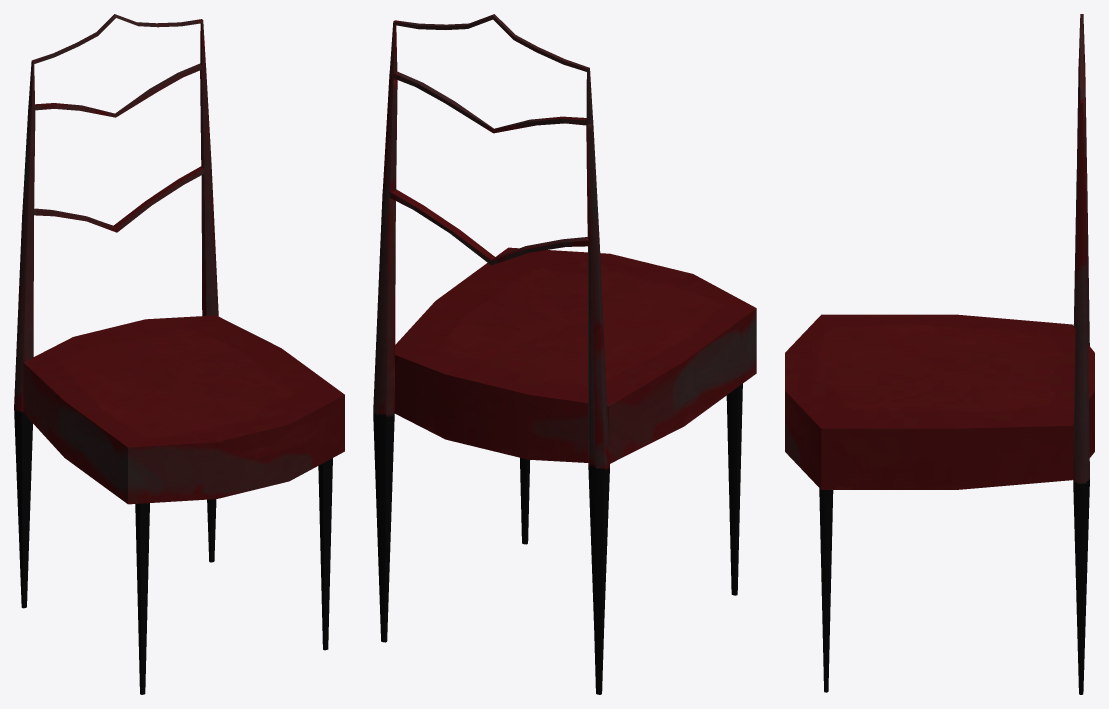
The model's file is Livingroom_chair.fbx.
The picture shows the model from 3 angles, left to right: view 1: azimuth 30°, elevation 25°; view 2: azimuth 150°, elevation 25°; view 3: azimuth 270°, elevation 25°; orthographic projection. The views are drawn at different scales.
Visible parts, largest first — view 1: pCube31; view 2: pCube31; view 3: pCube31.
Part boxes in pixels (bbox=[...]): pCube31: bbox=[14, 14, 344, 694]; pCube31: bbox=[373, 14, 756, 694]; pCube31: bbox=[785, 14, 1094, 694].
Size of the model in its own units: 0.0301 by 0.0756 by 0.0346.
